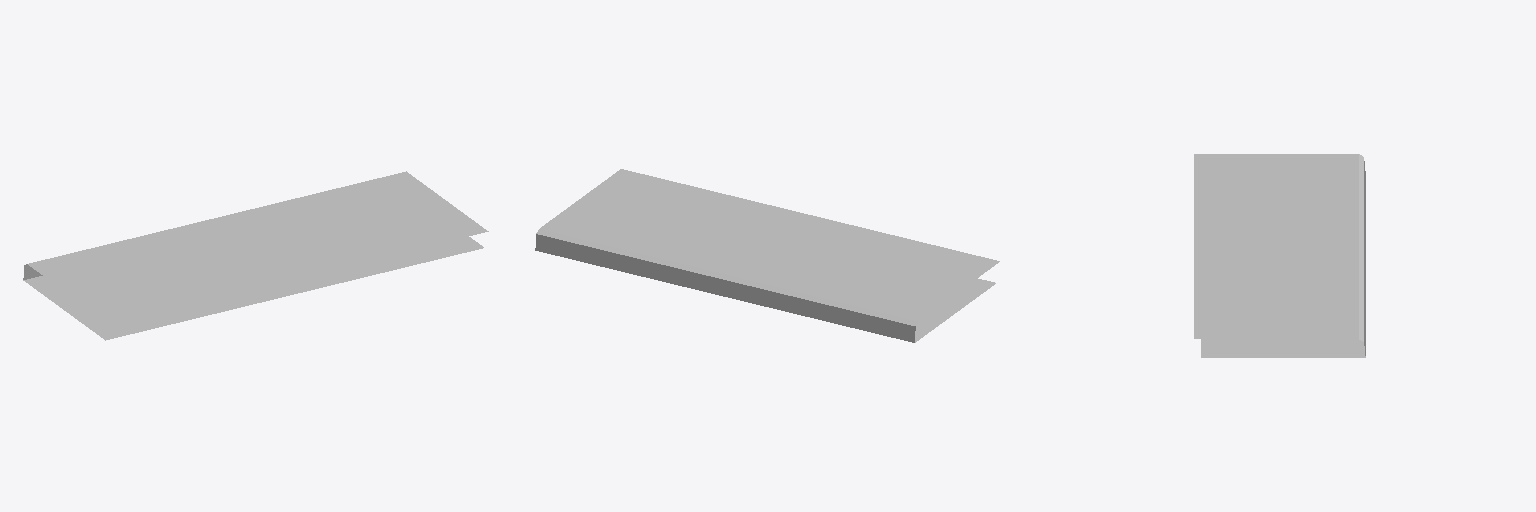
The model's file is half_new.obj.
The picture shows the model from 3 angles: view 1: azimuth 30°, elevation 25°; view 2: azimuth 150°, elevation 25°; view 3: azimuth 270°, elevation 25°; orthographic projection.
Bounding box in the file's own units: 1 × 0.048 × 0.3914.